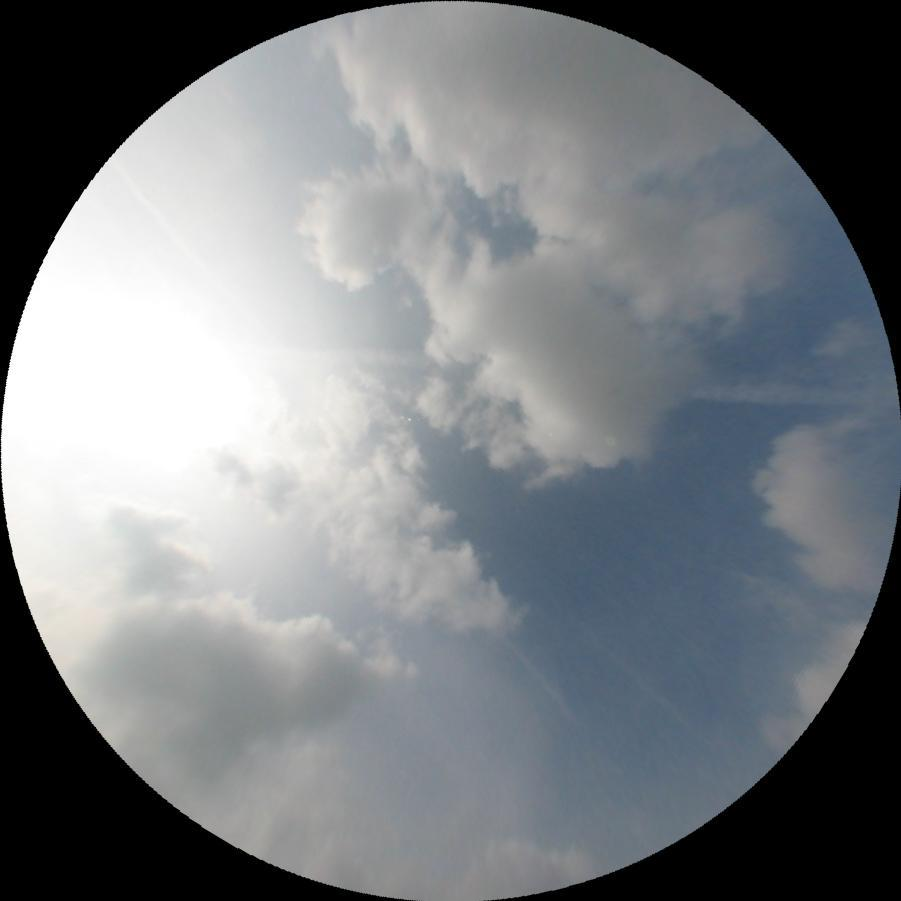contrail old: (578, 626, 716, 746)
contrail veryold: (220, 339, 894, 407)
unknow: (109, 154, 214, 285), (492, 627, 584, 724)
